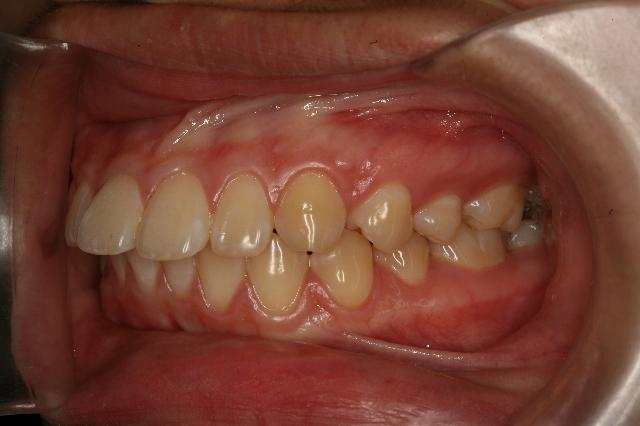canine class I: (244, 167, 376, 320)
molar class III 1/2: (428, 181, 532, 273)
